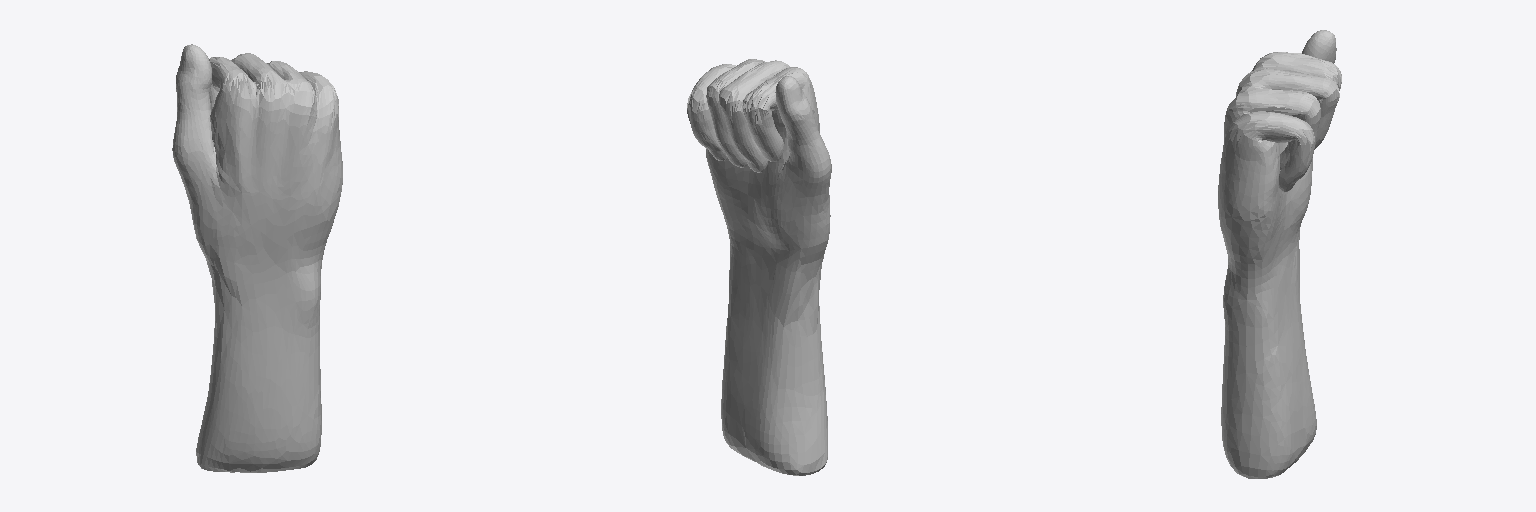
File: maina.obj
3 views of the same model, side by side, from view 1: azimuth 30°, elevation 25°; view 2: azimuth 150°, elevation 25°; view 3: azimuth 270°, elevation 25° (orthographic).
Visible parts, largest first — view 1: ZBrush_defualt_group; view 2: ZBrush_defualt_group; view 3: ZBrush_defualt_group.
Boxes of the visible parts, x1,y1,x2,y2 form: ZBrush_defualt_group: [172, 44, 342, 472]; ZBrush_defualt_group: [687, 59, 831, 475]; ZBrush_defualt_group: [1218, 30, 1341, 478].
Bounding box in the file's own units: 2.78 × 7.66 × 2.1.